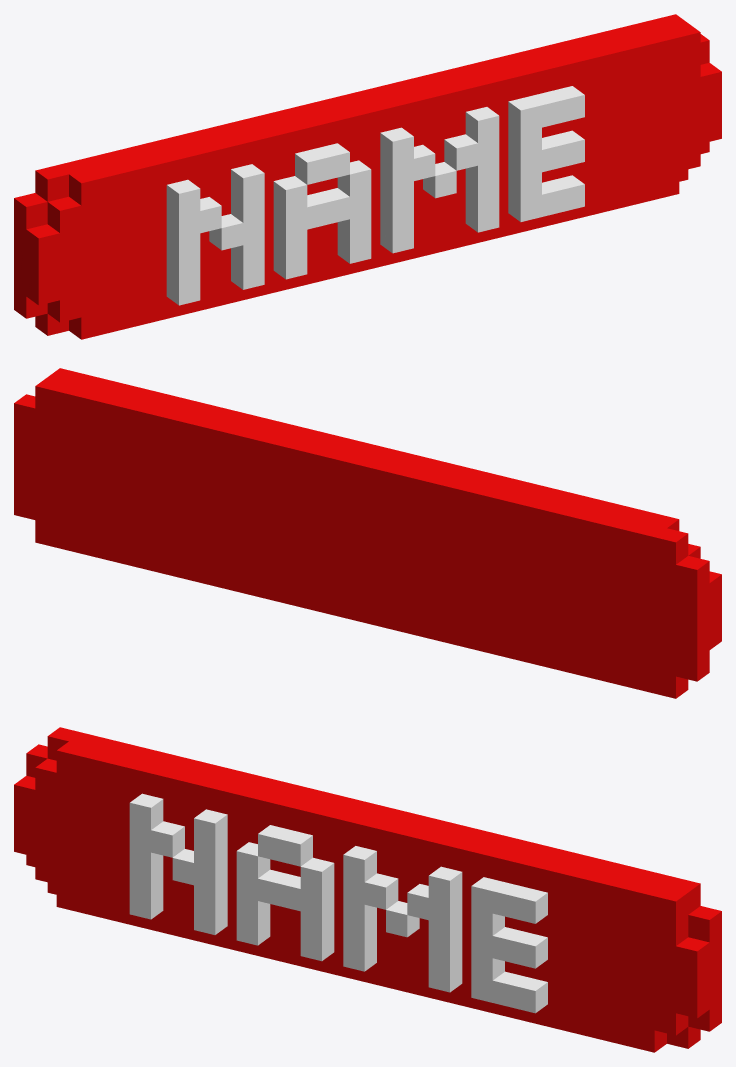
The model's file is name.obj.
The picture shows the model from 3 angles, top to bottom: view 1: azimuth 30°, elevation 25°; view 2: azimuth 150°, elevation 25°; view 3: azimuth 330°, elevation 25°; orthographic projection.
Parts seen in each view (by area): view 1: name; view 2: name; view 3: name.
Part boxes in pixels (bbox=[...]): name: bbox=[14, 14, 721, 339]; name: bbox=[14, 368, 721, 698]; name: bbox=[14, 727, 721, 1052].
Size of the model in its own units: 32 by 7 by 3.
Materials: 1 (1 with a texture image).
